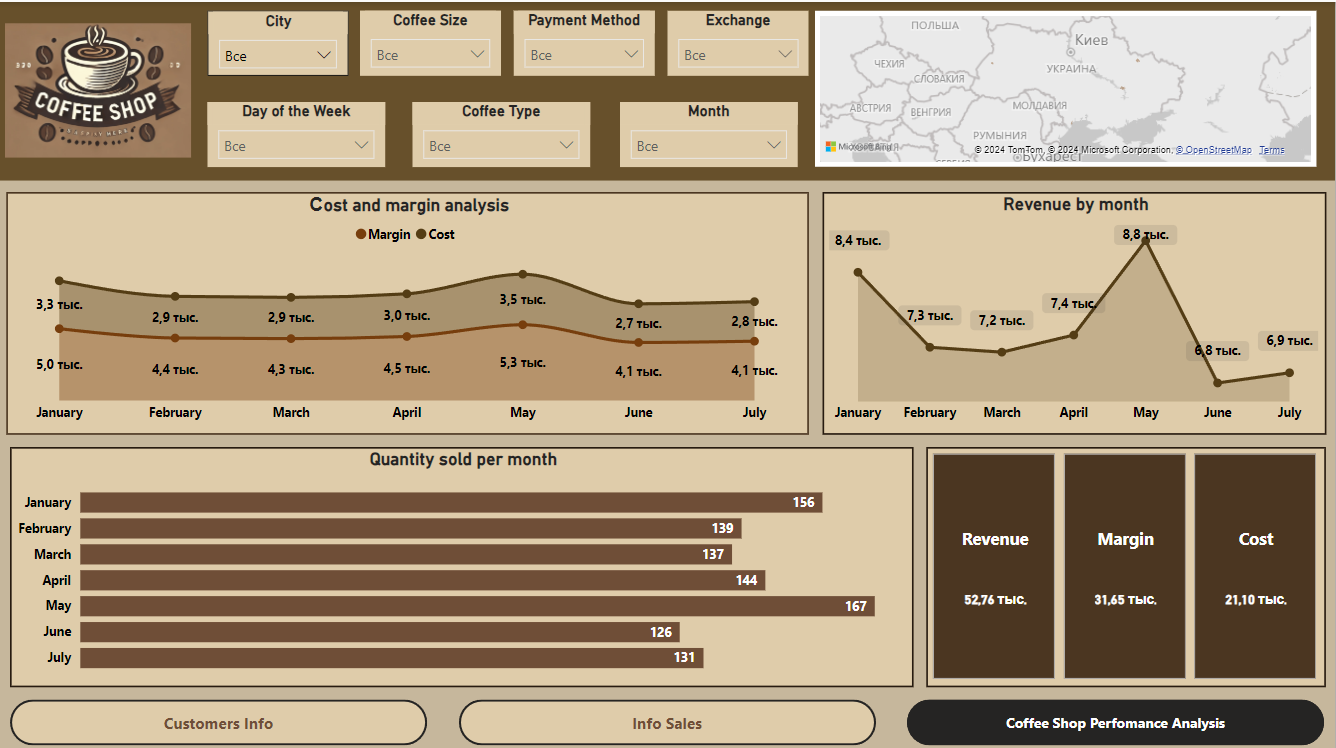

This screenshot's page, from the dashboard's own definition file:
{"tool":"powerbi","page":{"name":"Coffee Shop Perfomance Analysis","canvas":[1280,720],"ordinal":2},"visuals":[{"type":"shape","box":[0,0,1280,171.4],"z":0},{"type":"slicer","title":"City","fields":{"Values":["DimCity.City"]},"box":[199,8.4,135,62.3],"z":1000},{"type":"image","box":[0,10.8,188.2,147.4],"z":2000},{"type":"slicer","title":"Day of the Week","fields":{"Values":["coffee_purchase_data.Day of the Week"]},"box":[199,95.9,170.2,62.3],"z":3000},{"type":"slicer","title":"Coffee Size","fields":{"Values":["coffee_purchase_data.CoffeeSize"]},"box":[345,8,135,62.3],"z":4000},{"type":"slicer","title":"Coffee Type","fields":{"Values":["coffee_purchase_data.CoffeeType"]},"box":[395.5,95.9,170.2,62.3],"z":5000},{"type":"slicer","title":"Month","fields":{"Values":["coffee_purchase_data.MonthName"]},"box":[594.5,95.9,170.2,62.3],"z":6000},{"type":"slicer","title":"Payment Method","fields":{"Values":["coffee_purchase_data.PaymentType"]},"box":[493,8,135,62.3],"z":7000},{"type":"stackedAreaChart","title":"Сost and margin analysis","fields":{"Category":["coffee_purchase_data.MonthName"],"Y":["All the measures.EXCH Margin","All the measures.EXCH Cost"]},"box":[6,182.2,769.4,232.5],"z":8000},{"type":"cardVisual","fields":{"Data":["All the measures.EXCH Revenue","All the measures.EXCH Margin","All the measures.EXCH Cost"]},"box":[888.1,426.7,383.5,230.1],"z":9000},{"type":"lineChart","title":"Revenue by month","fields":{"Category":["coffee_purchase_data.MonthName"],"Y":["All the measures.EXCH Revenue"]},"box":[788.6,182.2,483,232.5],"z":10000},{"type":"barChart","title":"Quantity sold per month","fields":{"Y":["CountNonNull(coffee_purchase_data.Sales)"],"Category":["coffee_purchase_data.MonthName"]},"box":[9.6,426.7,866.5,230.1],"z":11000},{"type":"filledMap","fields":{"Category":["DimCity.City"],"Y":["Min(DimCity.Latitude)"],"X":["Min(DimCity.Longitude)"]},"box":[781.4,8.4,480.6,149.8],"z":12000},{"type":"slicer","title":"Exchange","fields":{"Values":["Currency.Currency"]},"box":[640,8.4,135.4,62.3],"z":13000},{"type":"pageNavigator","box":[9.6,668.8,1260.8,44.3],"z":14000}]}

Visuals, with their boxes in screenshot pixels (x1, y1, x2, y2), scaled from the page's 1280x720 canvas onto the 1336x748 screenshot:
shape: box=[0, 0, 1335, 178]
"City" slicer: box=[208, 9, 349, 73]
image: box=[0, 11, 196, 164]
"Day of the Week" slicer: box=[208, 100, 385, 164]
"Coffee Size" slicer: box=[360, 8, 501, 73]
"Coffee Type" slicer: box=[413, 100, 590, 164]
"Month" slicer: box=[621, 100, 798, 164]
"Payment Method" slicer: box=[515, 8, 655, 73]
"Сost and margin analysis" stackedAreaChart: box=[6, 189, 809, 431]
cardVisual - All the measures.EXCH Revenue x All the measures.EXCH Margin: box=[927, 443, 1327, 682]
"Revenue by month" lineChart: box=[823, 189, 1327, 431]
"Quantity sold per month" barChart: box=[10, 443, 914, 682]
filledMap - DimCity.City x Min(DimCity.Latitude): box=[816, 9, 1317, 164]
"Exchange" slicer: box=[668, 9, 809, 73]
pageNavigator: box=[10, 695, 1326, 741]
